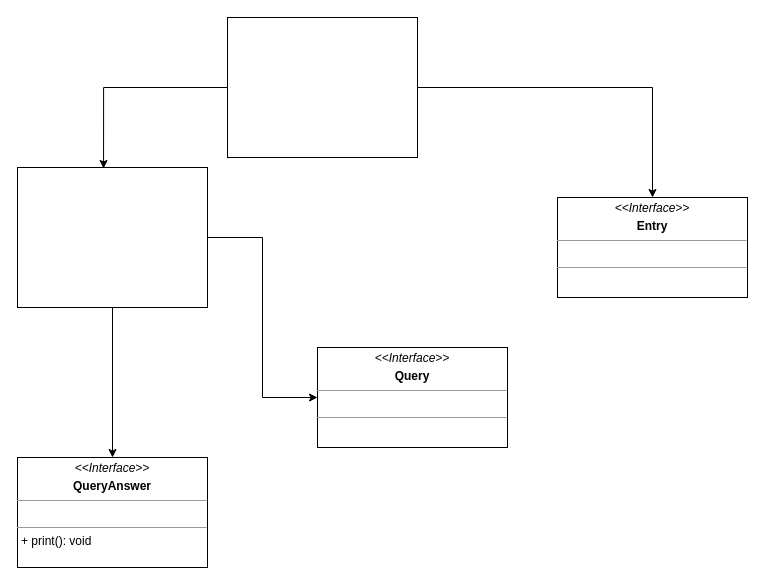
Image size: 765x585. Some labels were removed from this diagram. Each missing label, with the box of its shape:
<<Interface>> DataBase + search(Query): QueryAnswer: (16, 166, 208, 308)
<<Interface>> DataBaseBuilder + addEntry(Entry): void + getDatabase(): DataBase: (226, 16, 418, 158)
